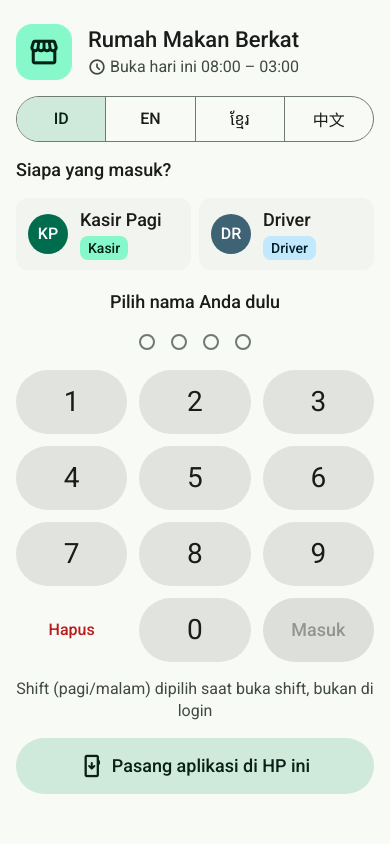
layar login › pilih bahasa sebelum login: hanya disimpan di perangkat (tanpa API akun)
expect the heading "Siapa yang masuk?" is shown: met, box [16,159,171,180]
Click the radio button labelled "中文" at (328, 119), box [284,97,373,141]
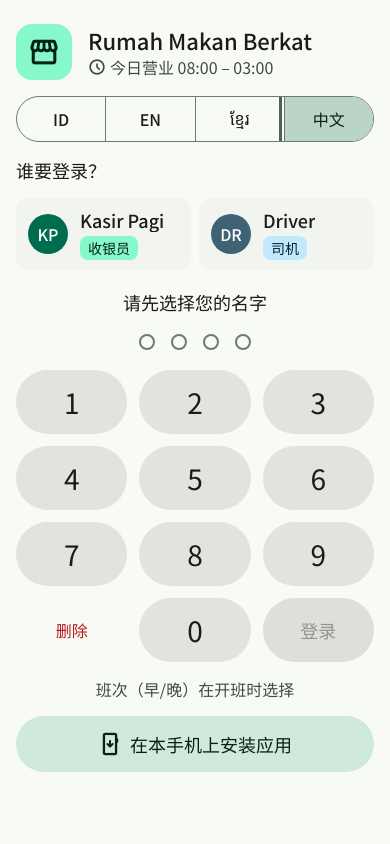
expect the heading "谁要登录？" is shown: met, box [16,157,106,183]
expect the text "收银员" is shown: met, box [80,236,138,260]
